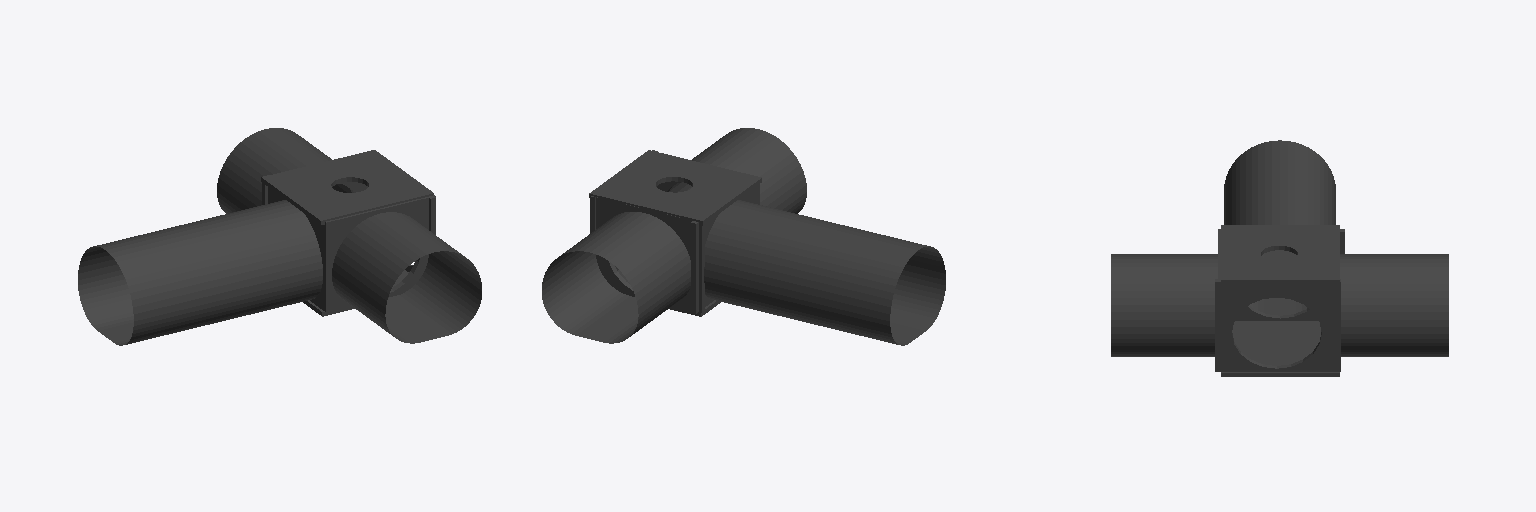
The model's file is map.obj.
The picture shows the model from 3 angles: view 1: azimuth 30°, elevation 25°; view 2: azimuth 150°, elevation 25°; view 3: azimuth 270°, elevation 25°; orthographic projection.
Bounding box in the file's own units: 12.38 × 3.79 × 12.03.